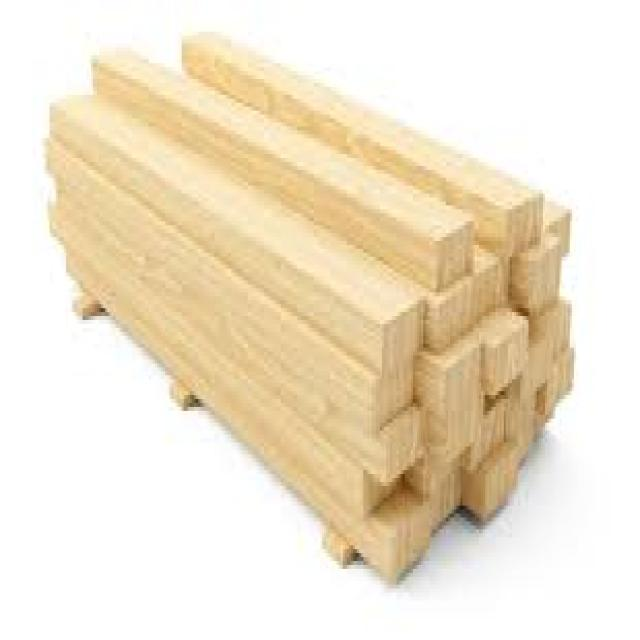Woods: (45, 32, 574, 589)
